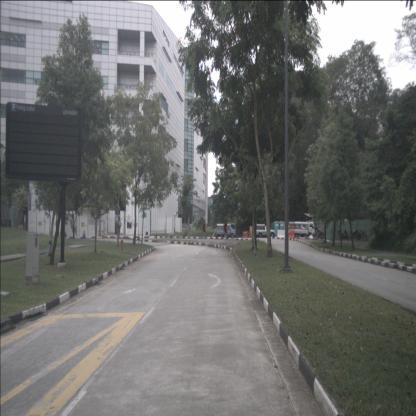human-pedestrian-adult: (82, 230, 86, 239)
movable_object-barrier: (277, 229, 286, 238), (286, 229, 294, 238), (242, 231, 248, 238)
vehicle-motorcycle: (338, 228, 349, 241), (358, 229, 367, 241), (350, 229, 358, 241), (317, 227, 322, 239)
vehicle-truck: (288, 221, 318, 238), (254, 224, 276, 238), (216, 224, 236, 239)
